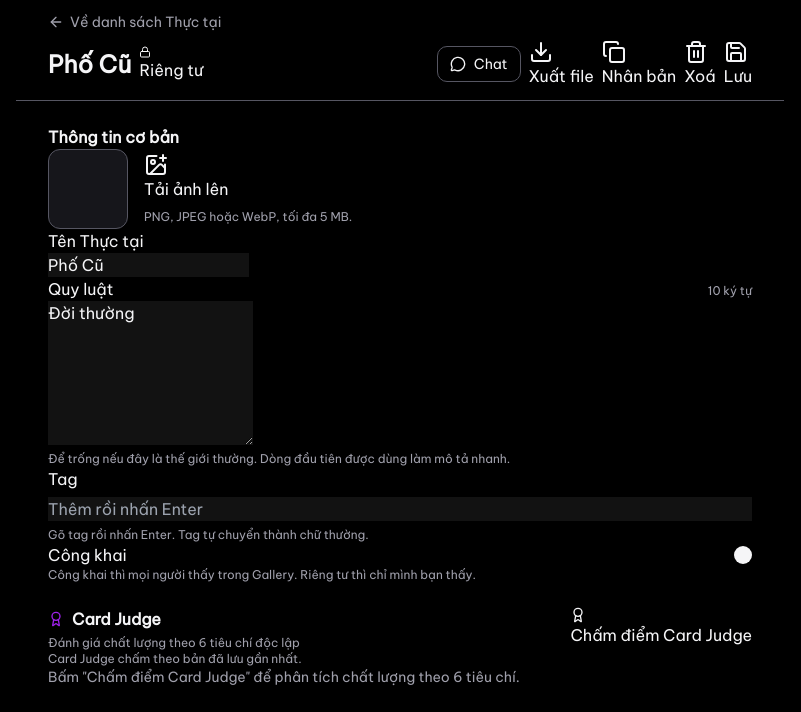
Test: CardJudgePanel › supports Card Judge inside WorldEditor for an existing world
Click the button "Chấm điểm Card Judge".
click(661, 627)  # box [570,607,752,647]
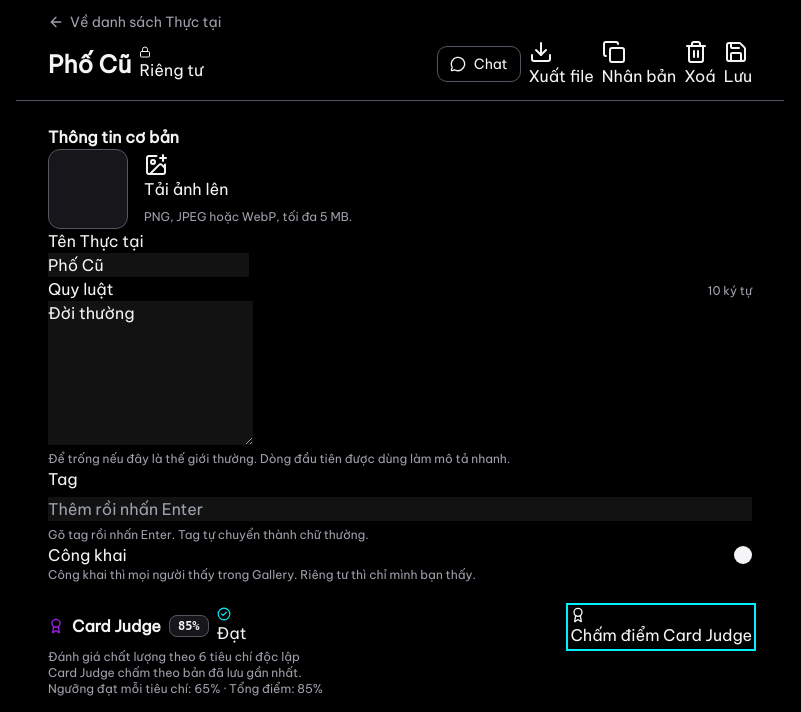
Check: the text with test id "judge-score-badge" reads "85%", box [178,619,200,633]
